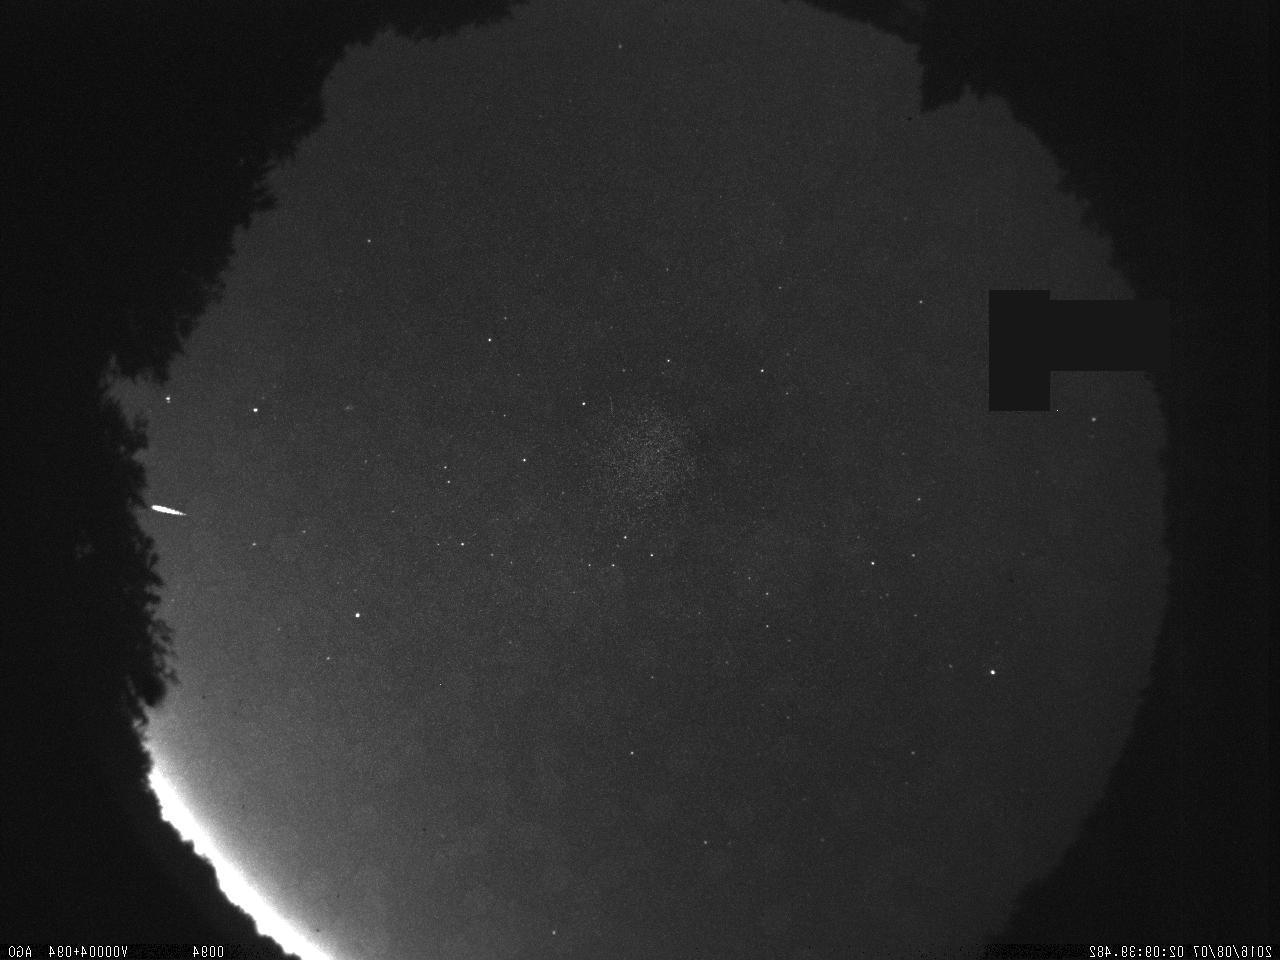meteor: (140, 492, 202, 528)
